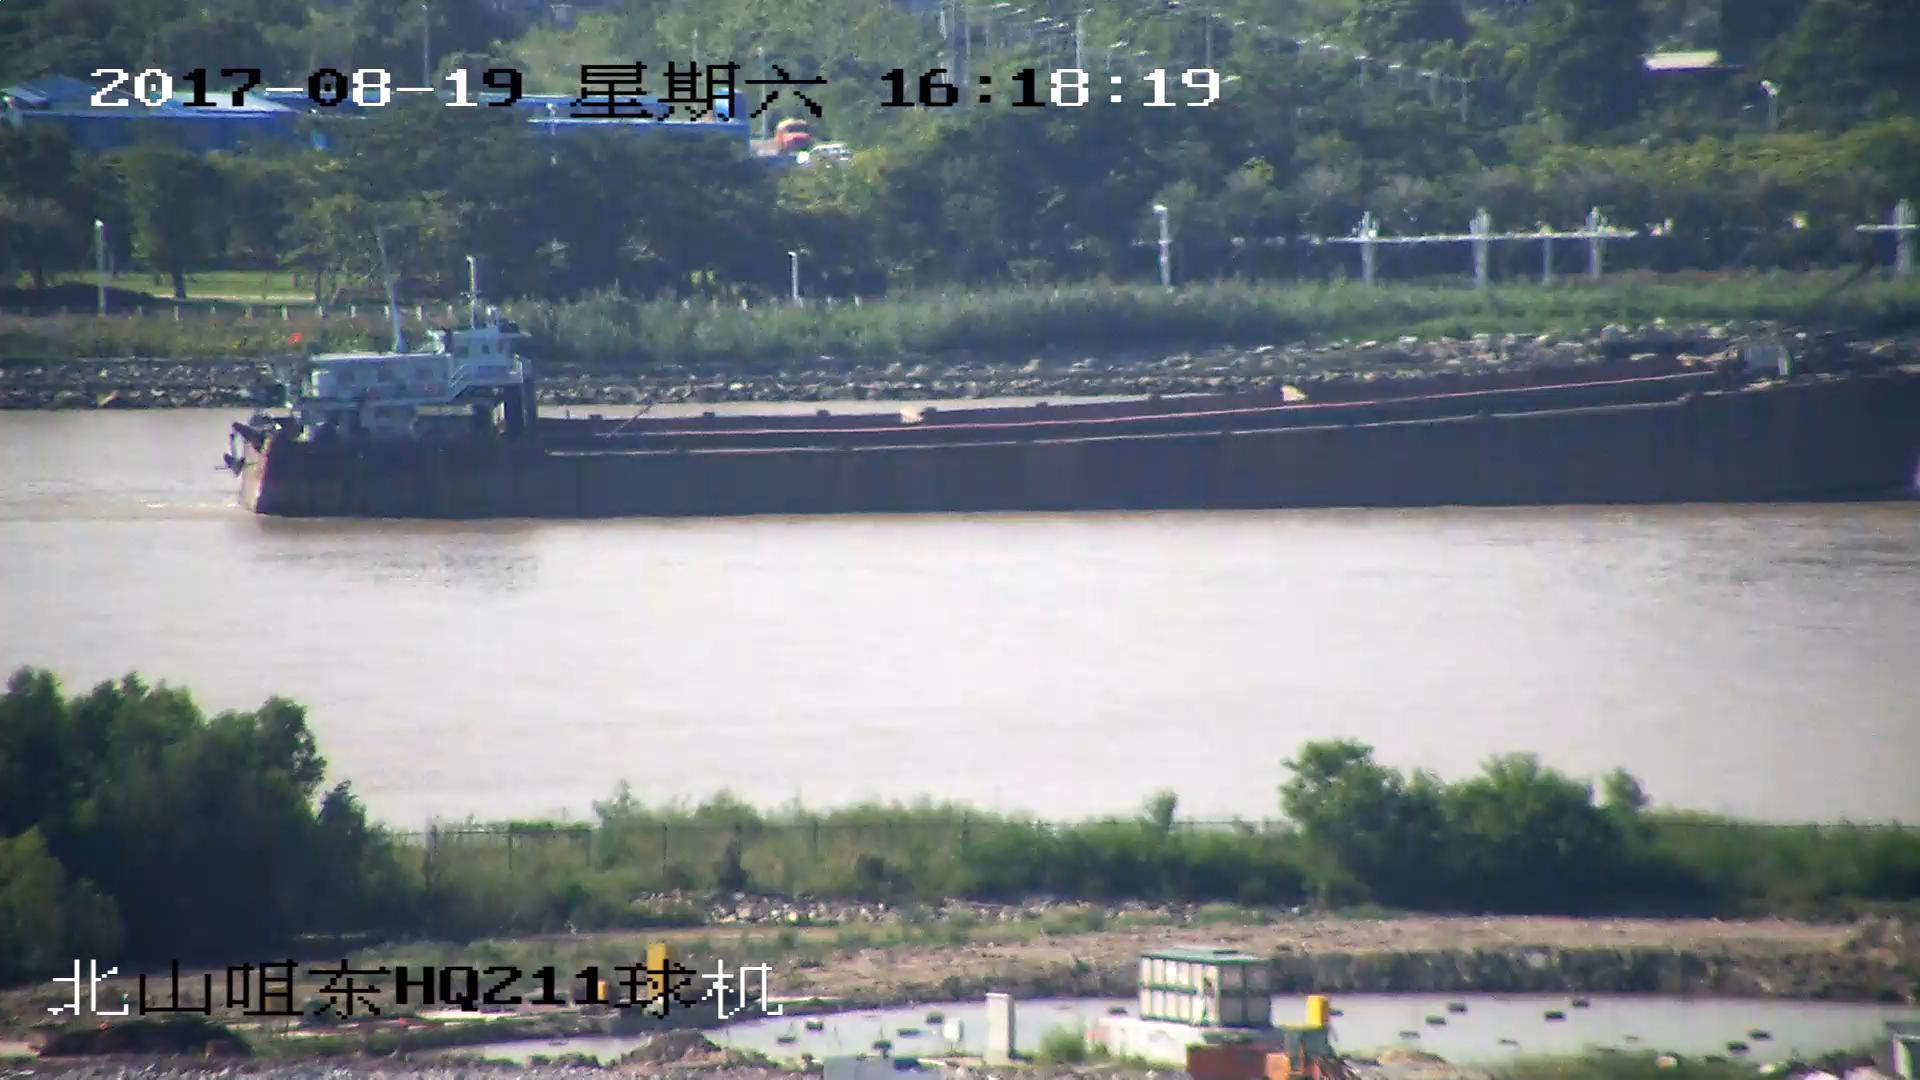Ship: (228, 313, 1920, 520)
